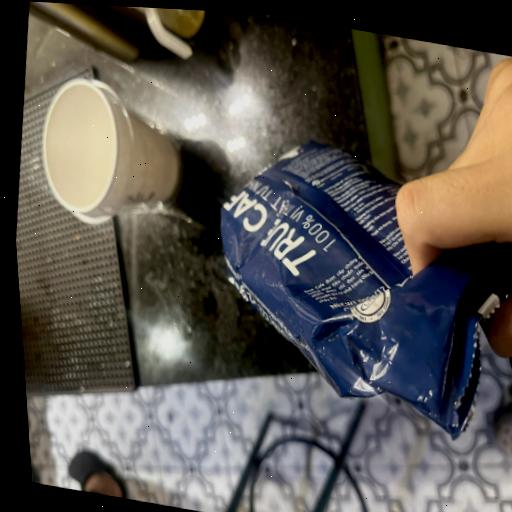cafe_hat: (221, 142, 499, 438)
